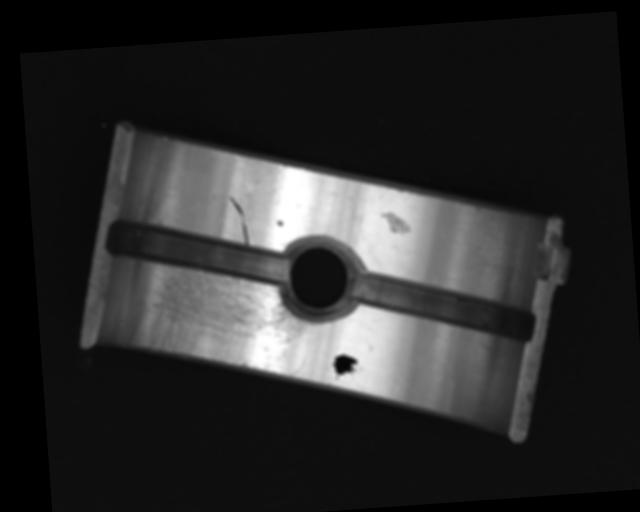blot: (330, 352, 364, 379)
bruise: (381, 210, 411, 236), (276, 218, 284, 227)
gap: (351, 260, 535, 352), (103, 207, 291, 297)
hole: (277, 234, 363, 323)
nick: (229, 193, 250, 246)
scratch: (123, 254, 317, 384)
